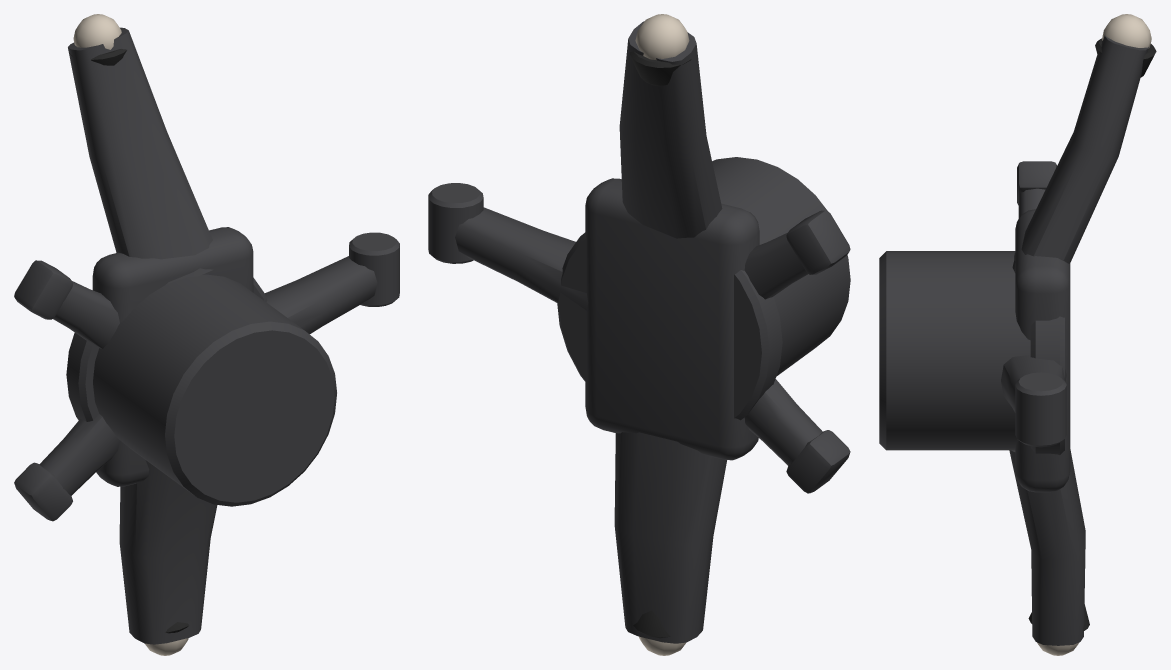
Rendered from SM_Susp_FR_Upright.fbx.
3 views of the same model, side by side, from view 1: azimuth 30°, elevation 25°; view 2: azimuth 150°, elevation 25°; view 3: azimuth 270°, elevation 25° (orthographic). The views are drawn at different scales.
Visible parts, largest first — view 1: Export_Susp_FR_Upright; view 2: Export_Susp_FR_Upright; view 3: Export_Susp_FR_Upright.
Part boxes in pixels (x1,y1,x2,y2): Export_Susp_FR_Upright: (14,14,399,655); Export_Susp_FR_Upright: (428,14,850,655); Export_Susp_FR_Upright: (879,14,1156,655).
Bounding box in the file's own units: 0.1613 × 0.2535 × 0.399.
